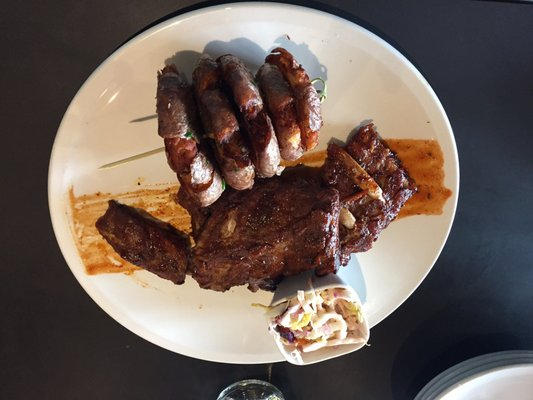curry: (0, 0, 519, 400)
